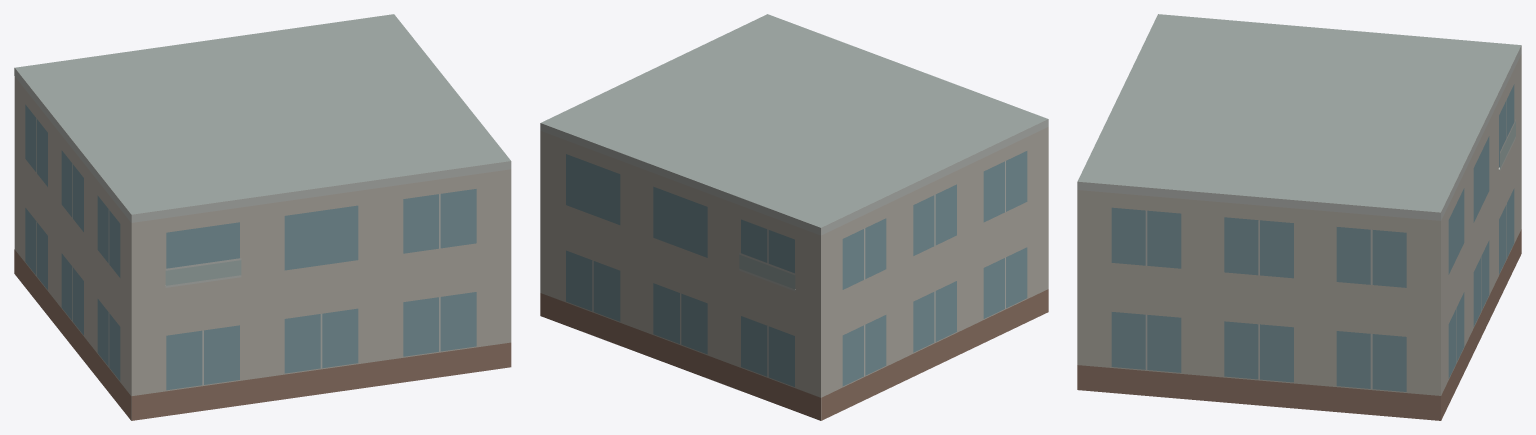
The model's file is survey-upis-32806110.glb.
The picture shows the model from 3 angles, left to right: view 1: azimuth 30°, elevation 25°; view 2: azimuth 150°, elevation 25°; view 3: azimuth 270°, elevation 25°; orthographic projection. The views are drawn at different scales.
Visible parts, largest first — view 1: survey-upis-32806110.tmp; view 2: survey-upis-32806110.tmp; view 3: survey-upis-32806110.tmp.
Boxes of the visible parts, x1=… form: survey-upis-32806110.tmp: x1=14, y1=14, x2=511, y2=420; survey-upis-32806110.tmp: x1=540, y1=14, x2=1048, y2=420; survey-upis-32806110.tmp: x1=1077, y1=14, x2=1521, y2=420.
Bounding box in the file's own units: 12.48 × 6.1 × 11.8.
